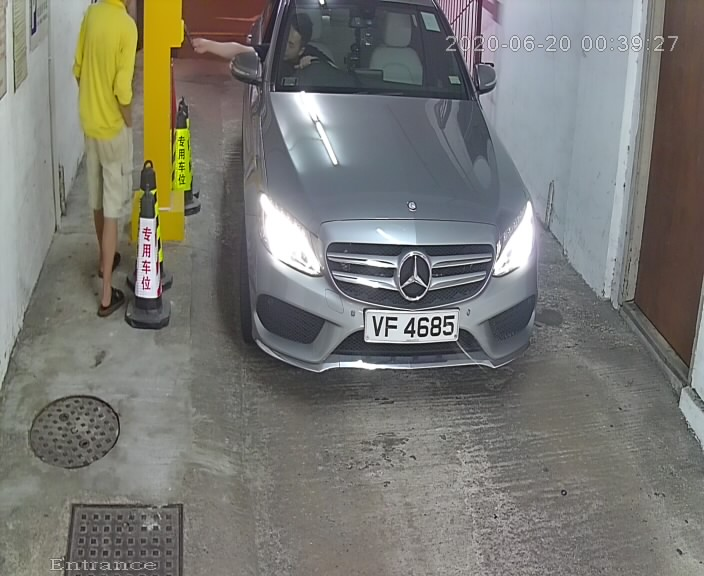privatecar: (195, 3, 541, 372)
